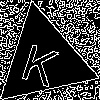K: (19, 34, 64, 88)
